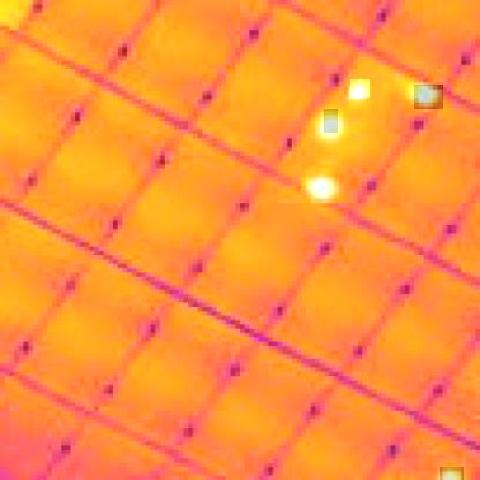fault: (310, 173, 338, 200), (414, 86, 443, 110), (350, 79, 370, 98), (325, 110, 338, 134), (440, 467, 464, 480)
